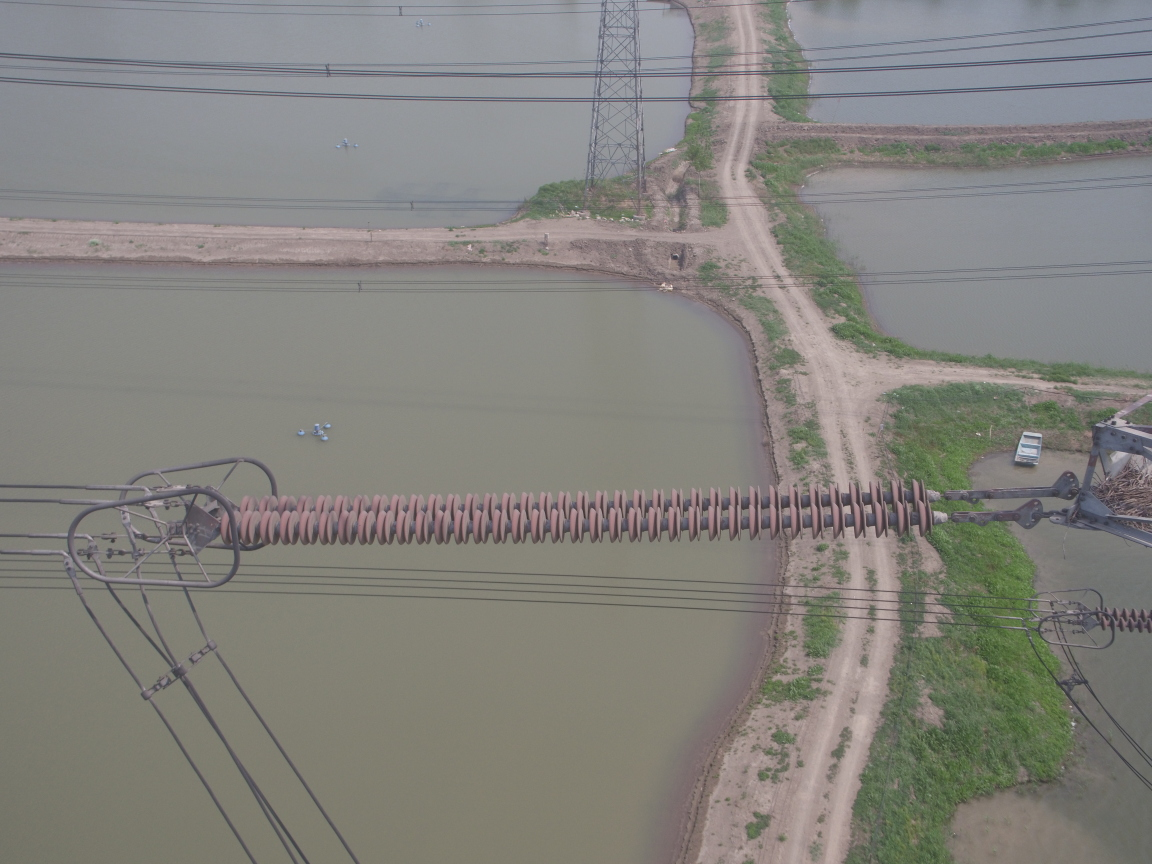insulator: (207, 476, 994, 551)
